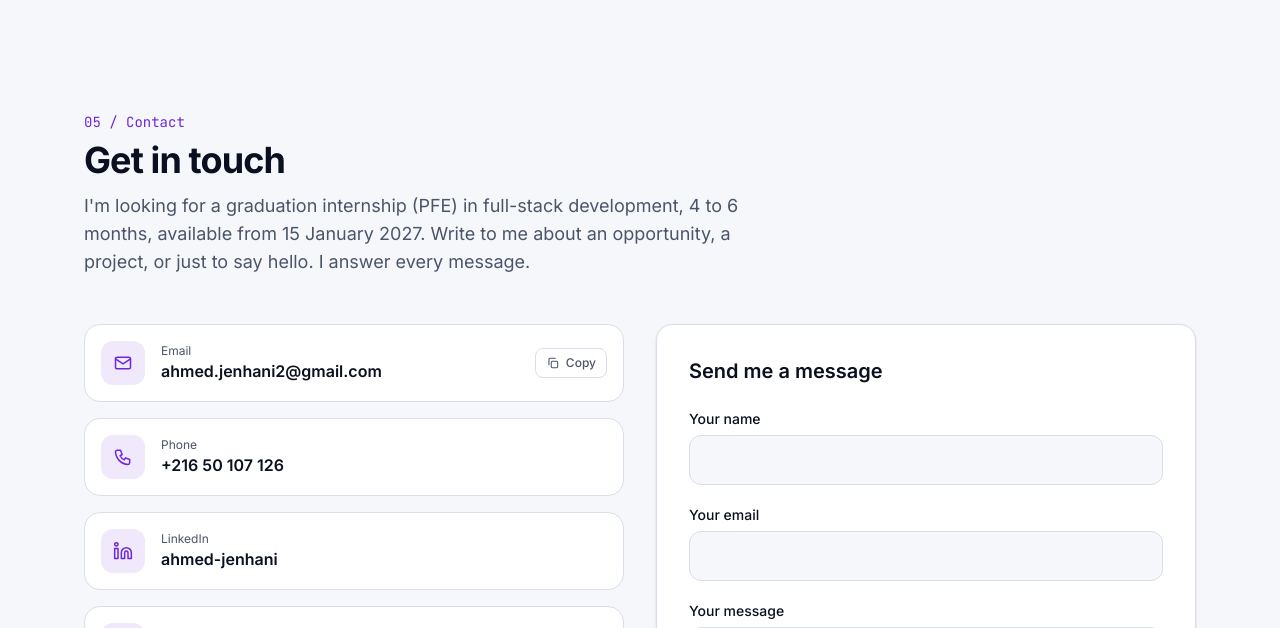
Contact › tells the visitor when sending fails
This screenshot has width=1280, height=628.
Type "Sara Ben Ali" into the field with test id "contact-name". click: (926, 460)
box: [689,435,1163,485]
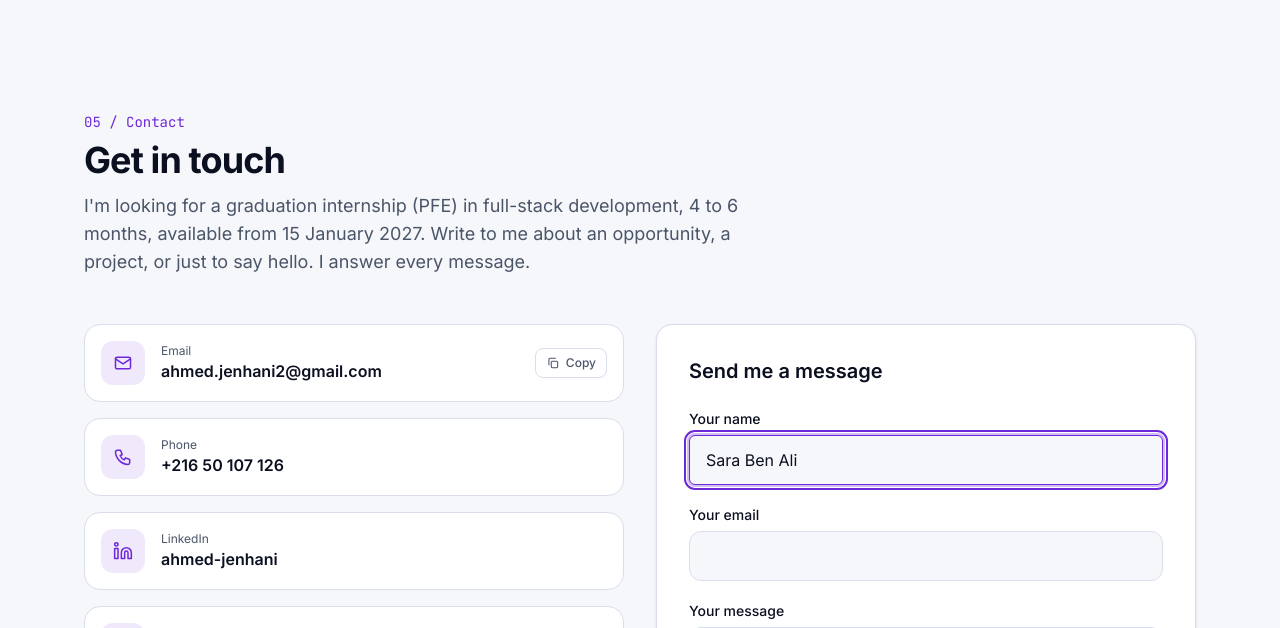
Type "sara@example.com" into the field with test id "contact-email". click: (926, 556)
box: [689,531,1163,581]
(page scrolled)
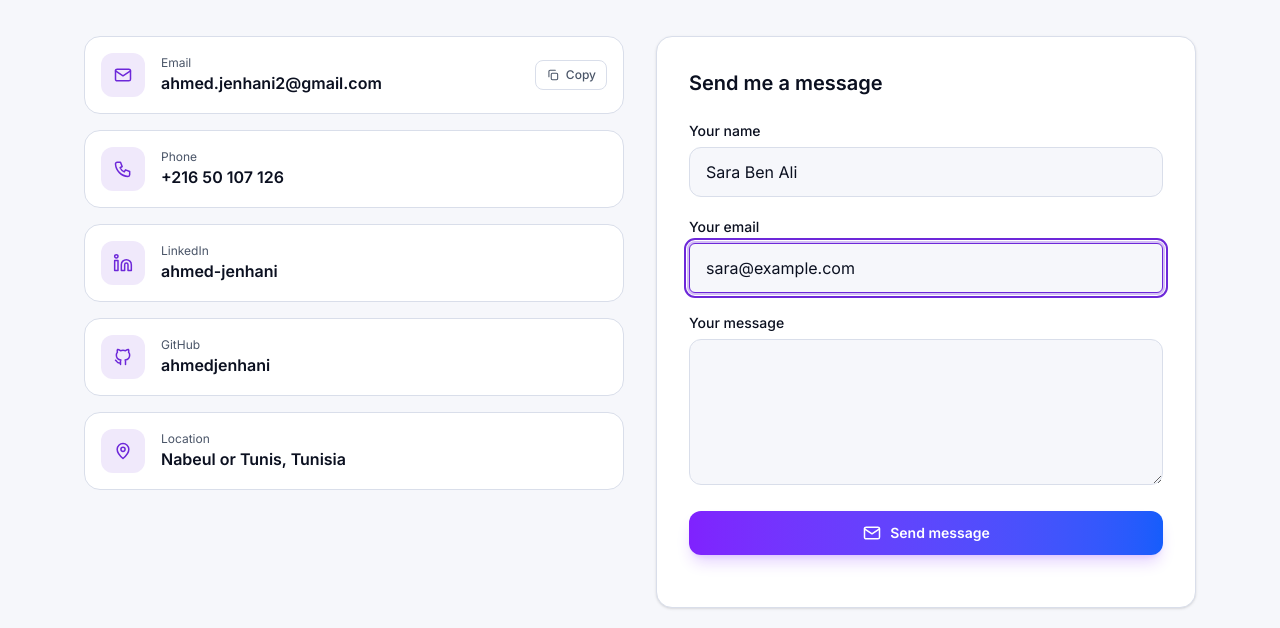
Type "Hello Ahmed, we have an internship." into the text box with test id "contact-message". click: (926, 412)
box: [689,339,1163,485]
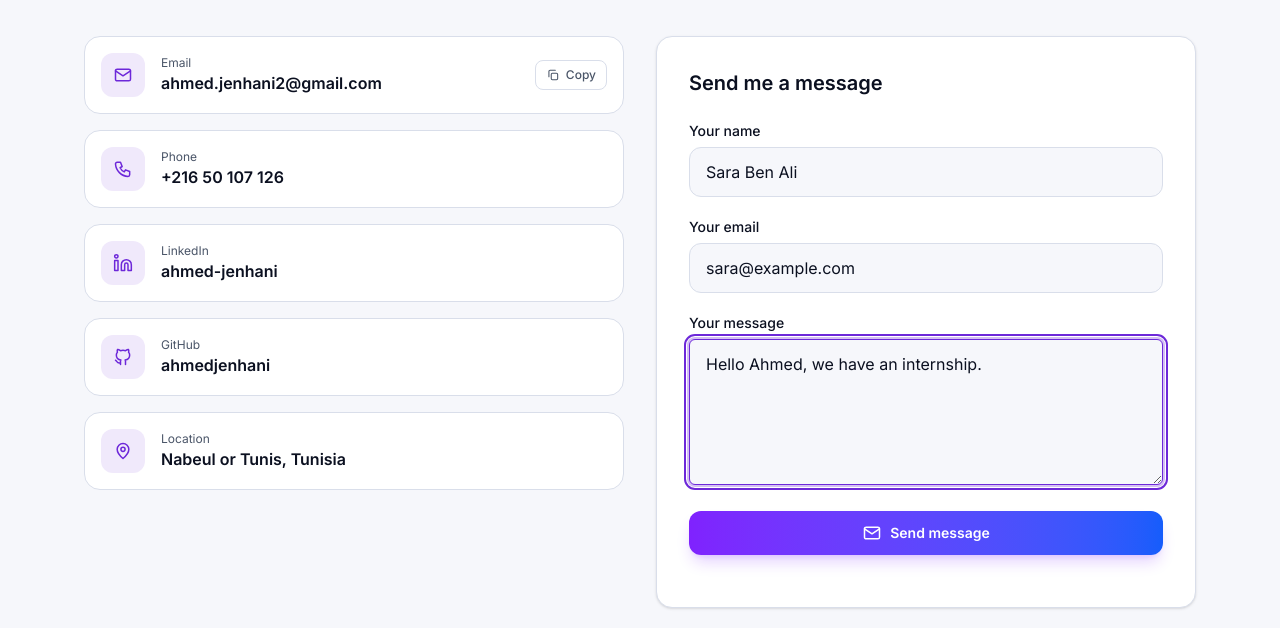
Click the button with test id "contact-send". click: (926, 533)
box: [689,511,1163,555]
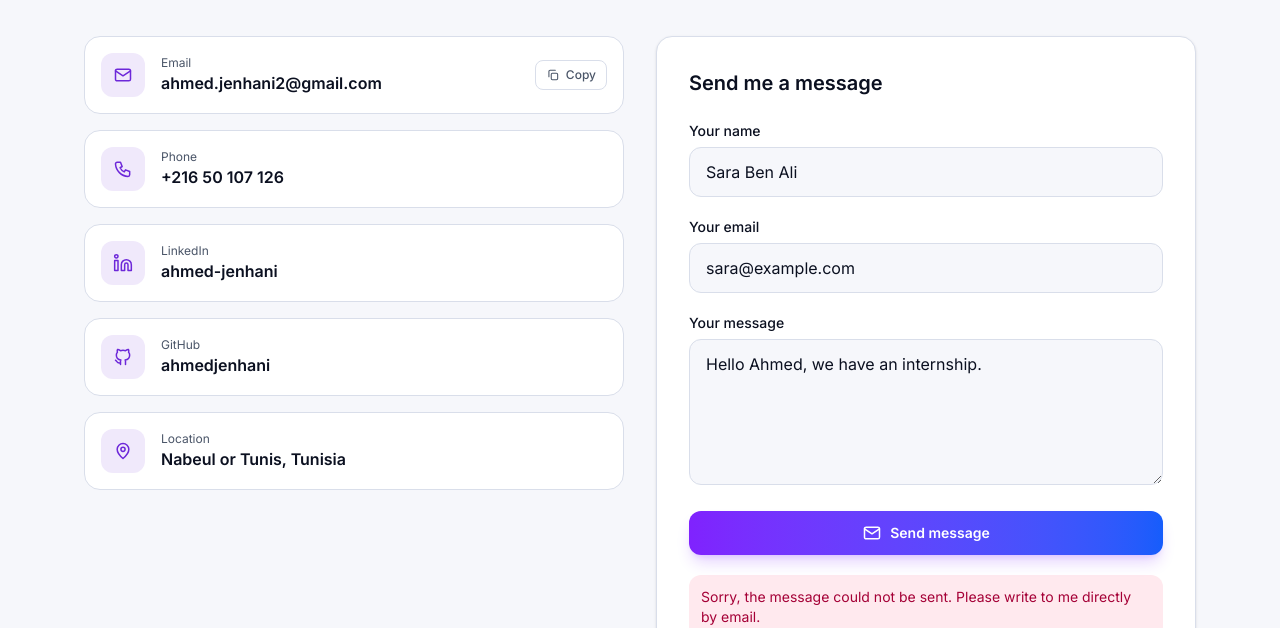
Expected: the text "could not be sent" is shown, [701,588,1131,625]
